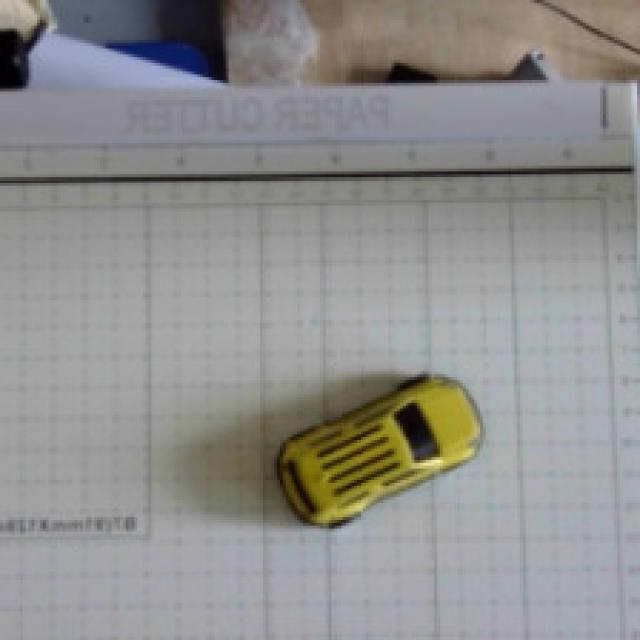Yellow Car: (250, 358, 555, 556)
